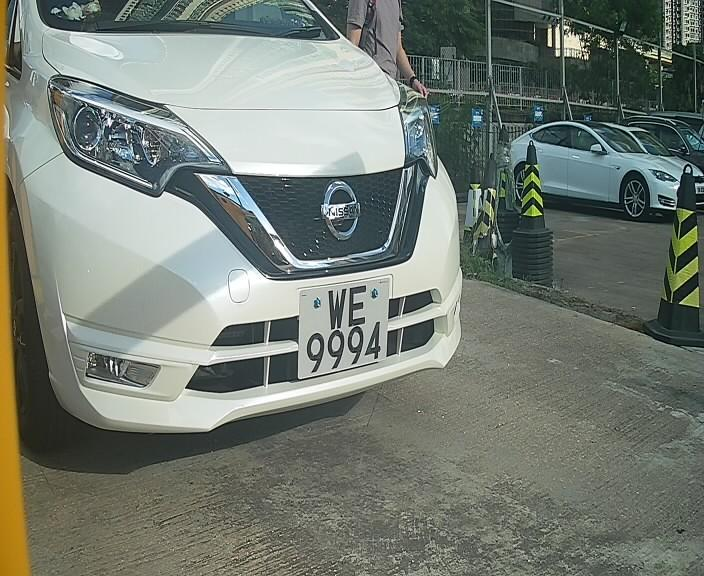License Plate: (293, 271, 400, 391)
